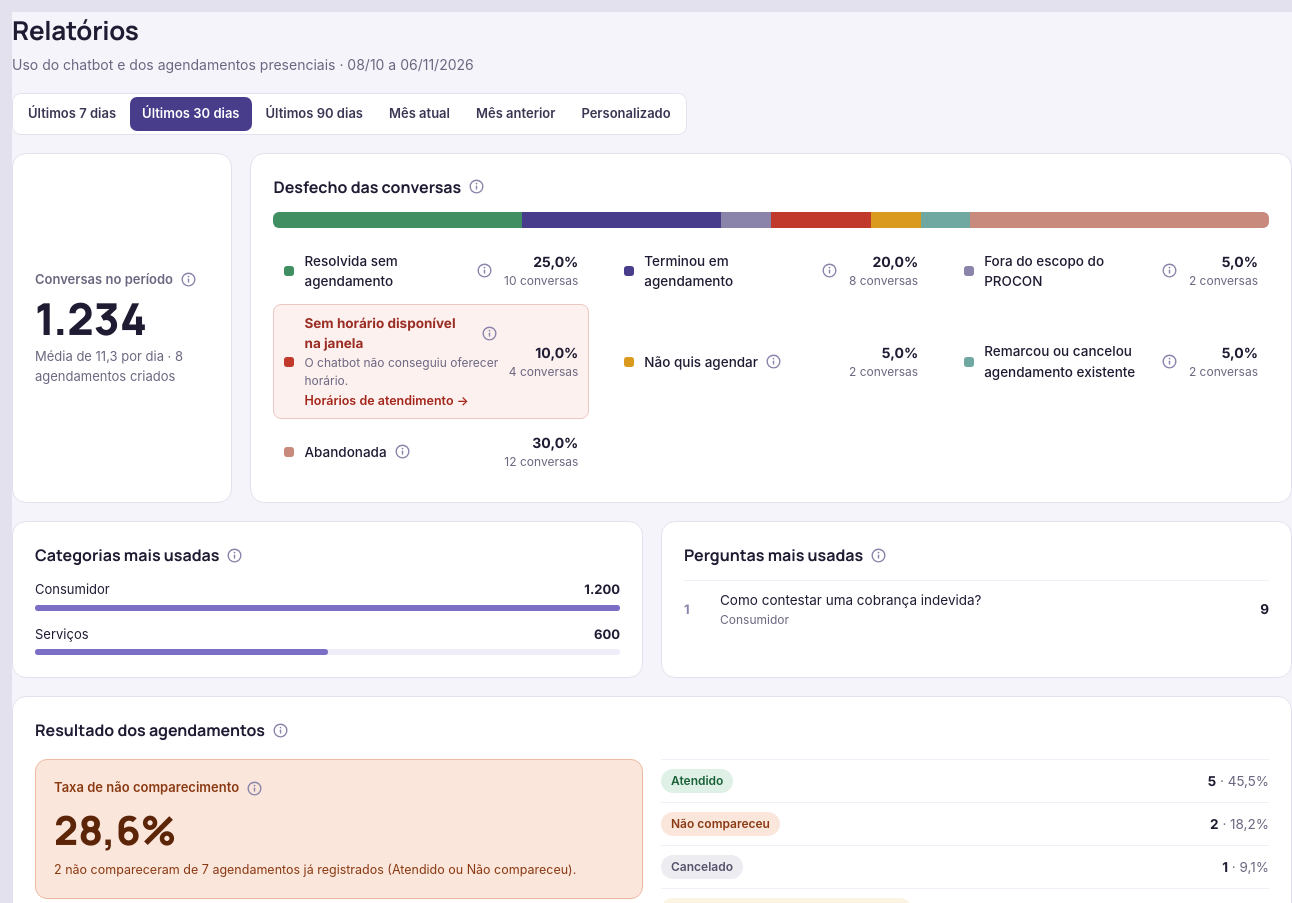
Test case: Reports: cartão Desfecho das conversas › explica Resolvida sem agendamento em um tooltip
The image size is (1292, 903).
Expected: the heading "Desfecho das conversas" is shown, [274,176,486,198]
Click the button named "Definição de Resolvida sem agendamento" at (485, 271), box [475,263,494,278]
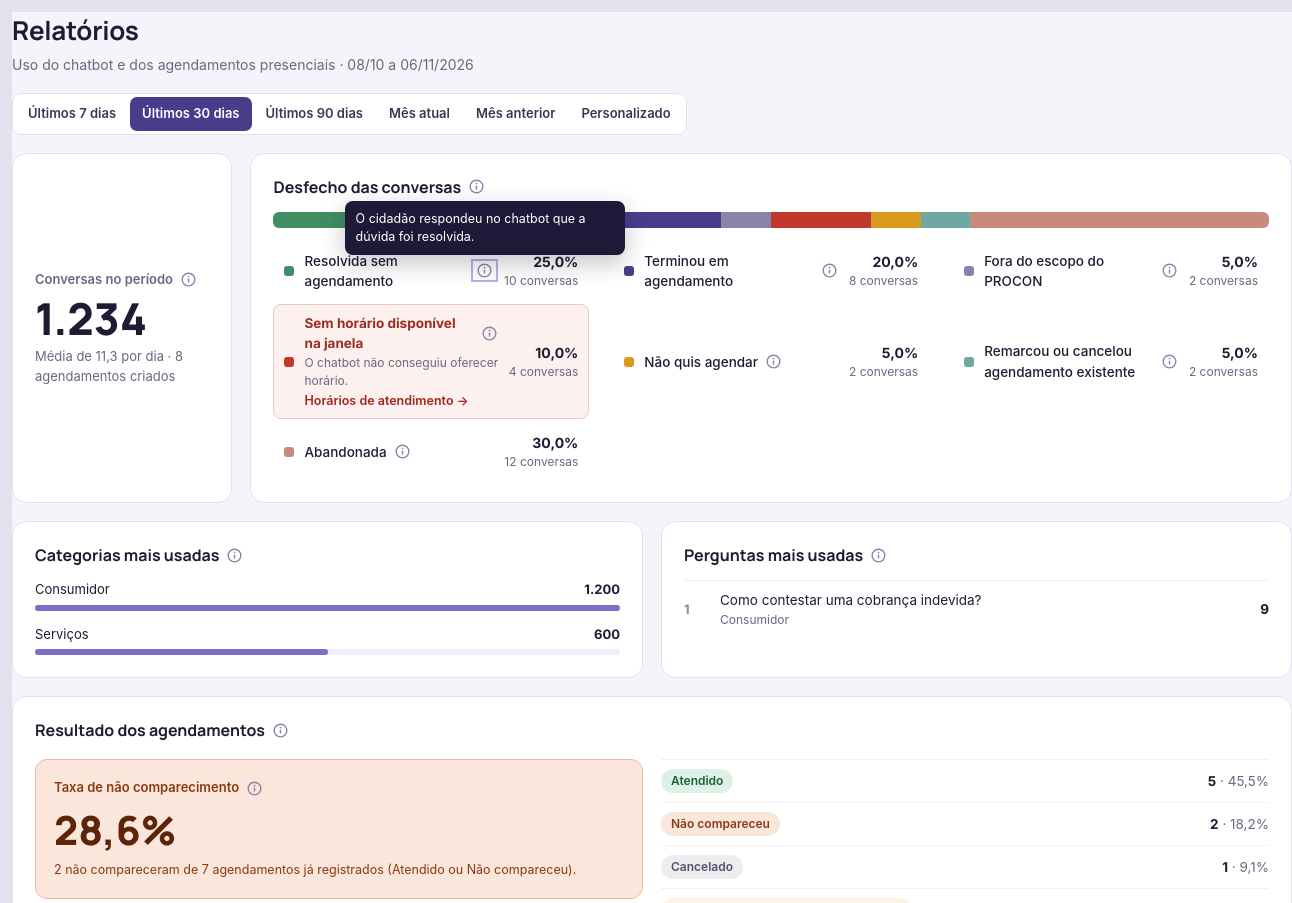
Now the tooltip reads "O cidadão respondeu no chatbot que a dúvida foi resolvida.", box [356,211,586,244]
